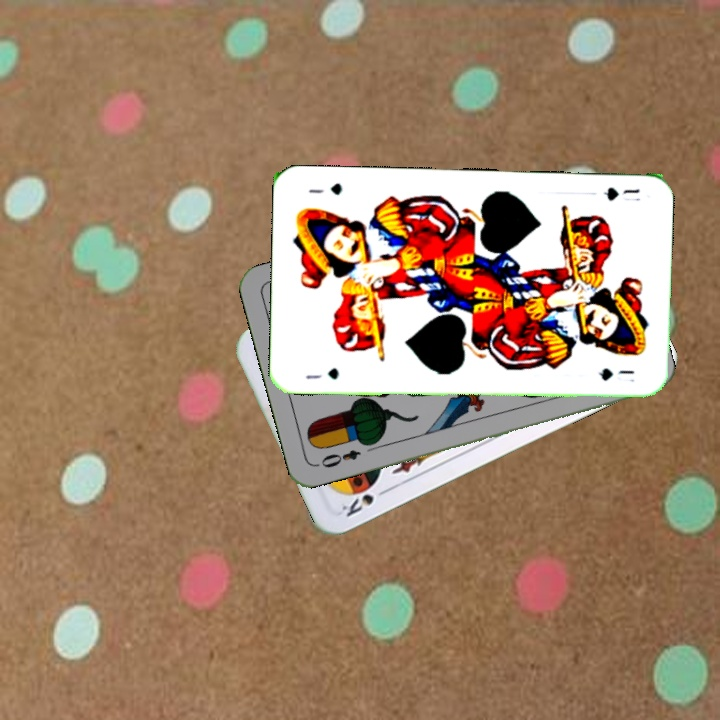EO: (317, 445, 363, 471)
GU: (600, 183, 642, 203), (302, 363, 341, 382)
SK: (336, 484, 392, 520)
